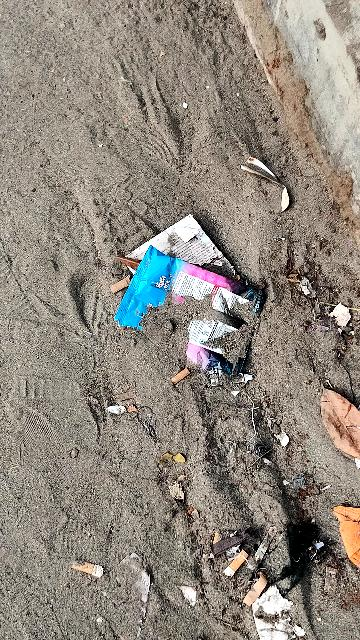packet: (112, 246, 257, 368)
